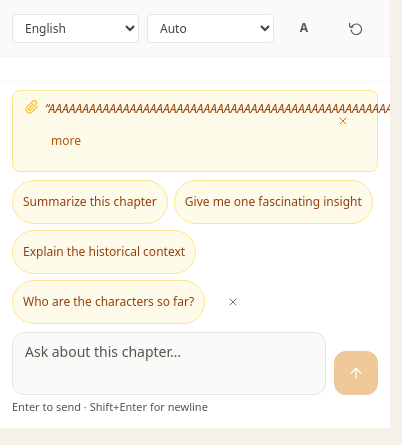
InsightChat — ContextChip expand/collapse (L78) › toggles ContextChip from 'more' to 'less' when button clicked
Click the button with aria-label "Toggle context": x=66, y=140 x1=51 y1=118 x2=81 y2=162
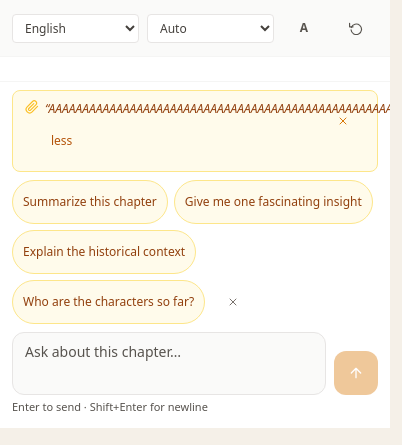
Now the button with aria-label "Toggle context" is expanded, box x1=51 y1=118 x2=72 y2=162
